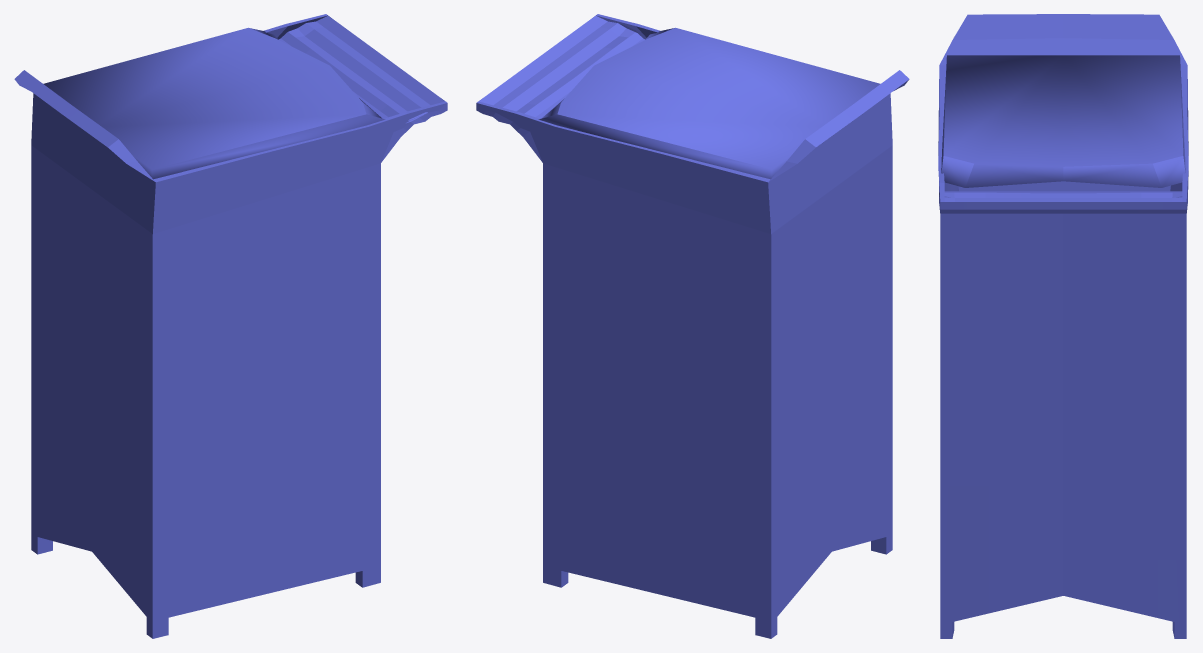
File: Tanquinho.fbx
The picture shows the model from 3 angles, left to right: view 1: azimuth 30°, elevation 25°; view 2: azimuth 150°, elevation 25°; view 3: azimuth 270°, elevation 25°; orthographic projection.
Visible parts, largest first — view 1: Tanquinho, Tampa; view 2: Tanquinho, Tampa; view 3: Tanquinho, Tampa.
Part boxes in pixels (x1,y1,x2,y2): Tanquinho: (14,14,447,638); Tampa: (43,27,385,179); Tanquinho: (476,14,909,638); Tampa: (538,27,880,179); Tanquinho: (938,14,1188,638); Tampa: (941,55,1185,187).
Bounding box in the file's own units: 208 × 302 × 136.
